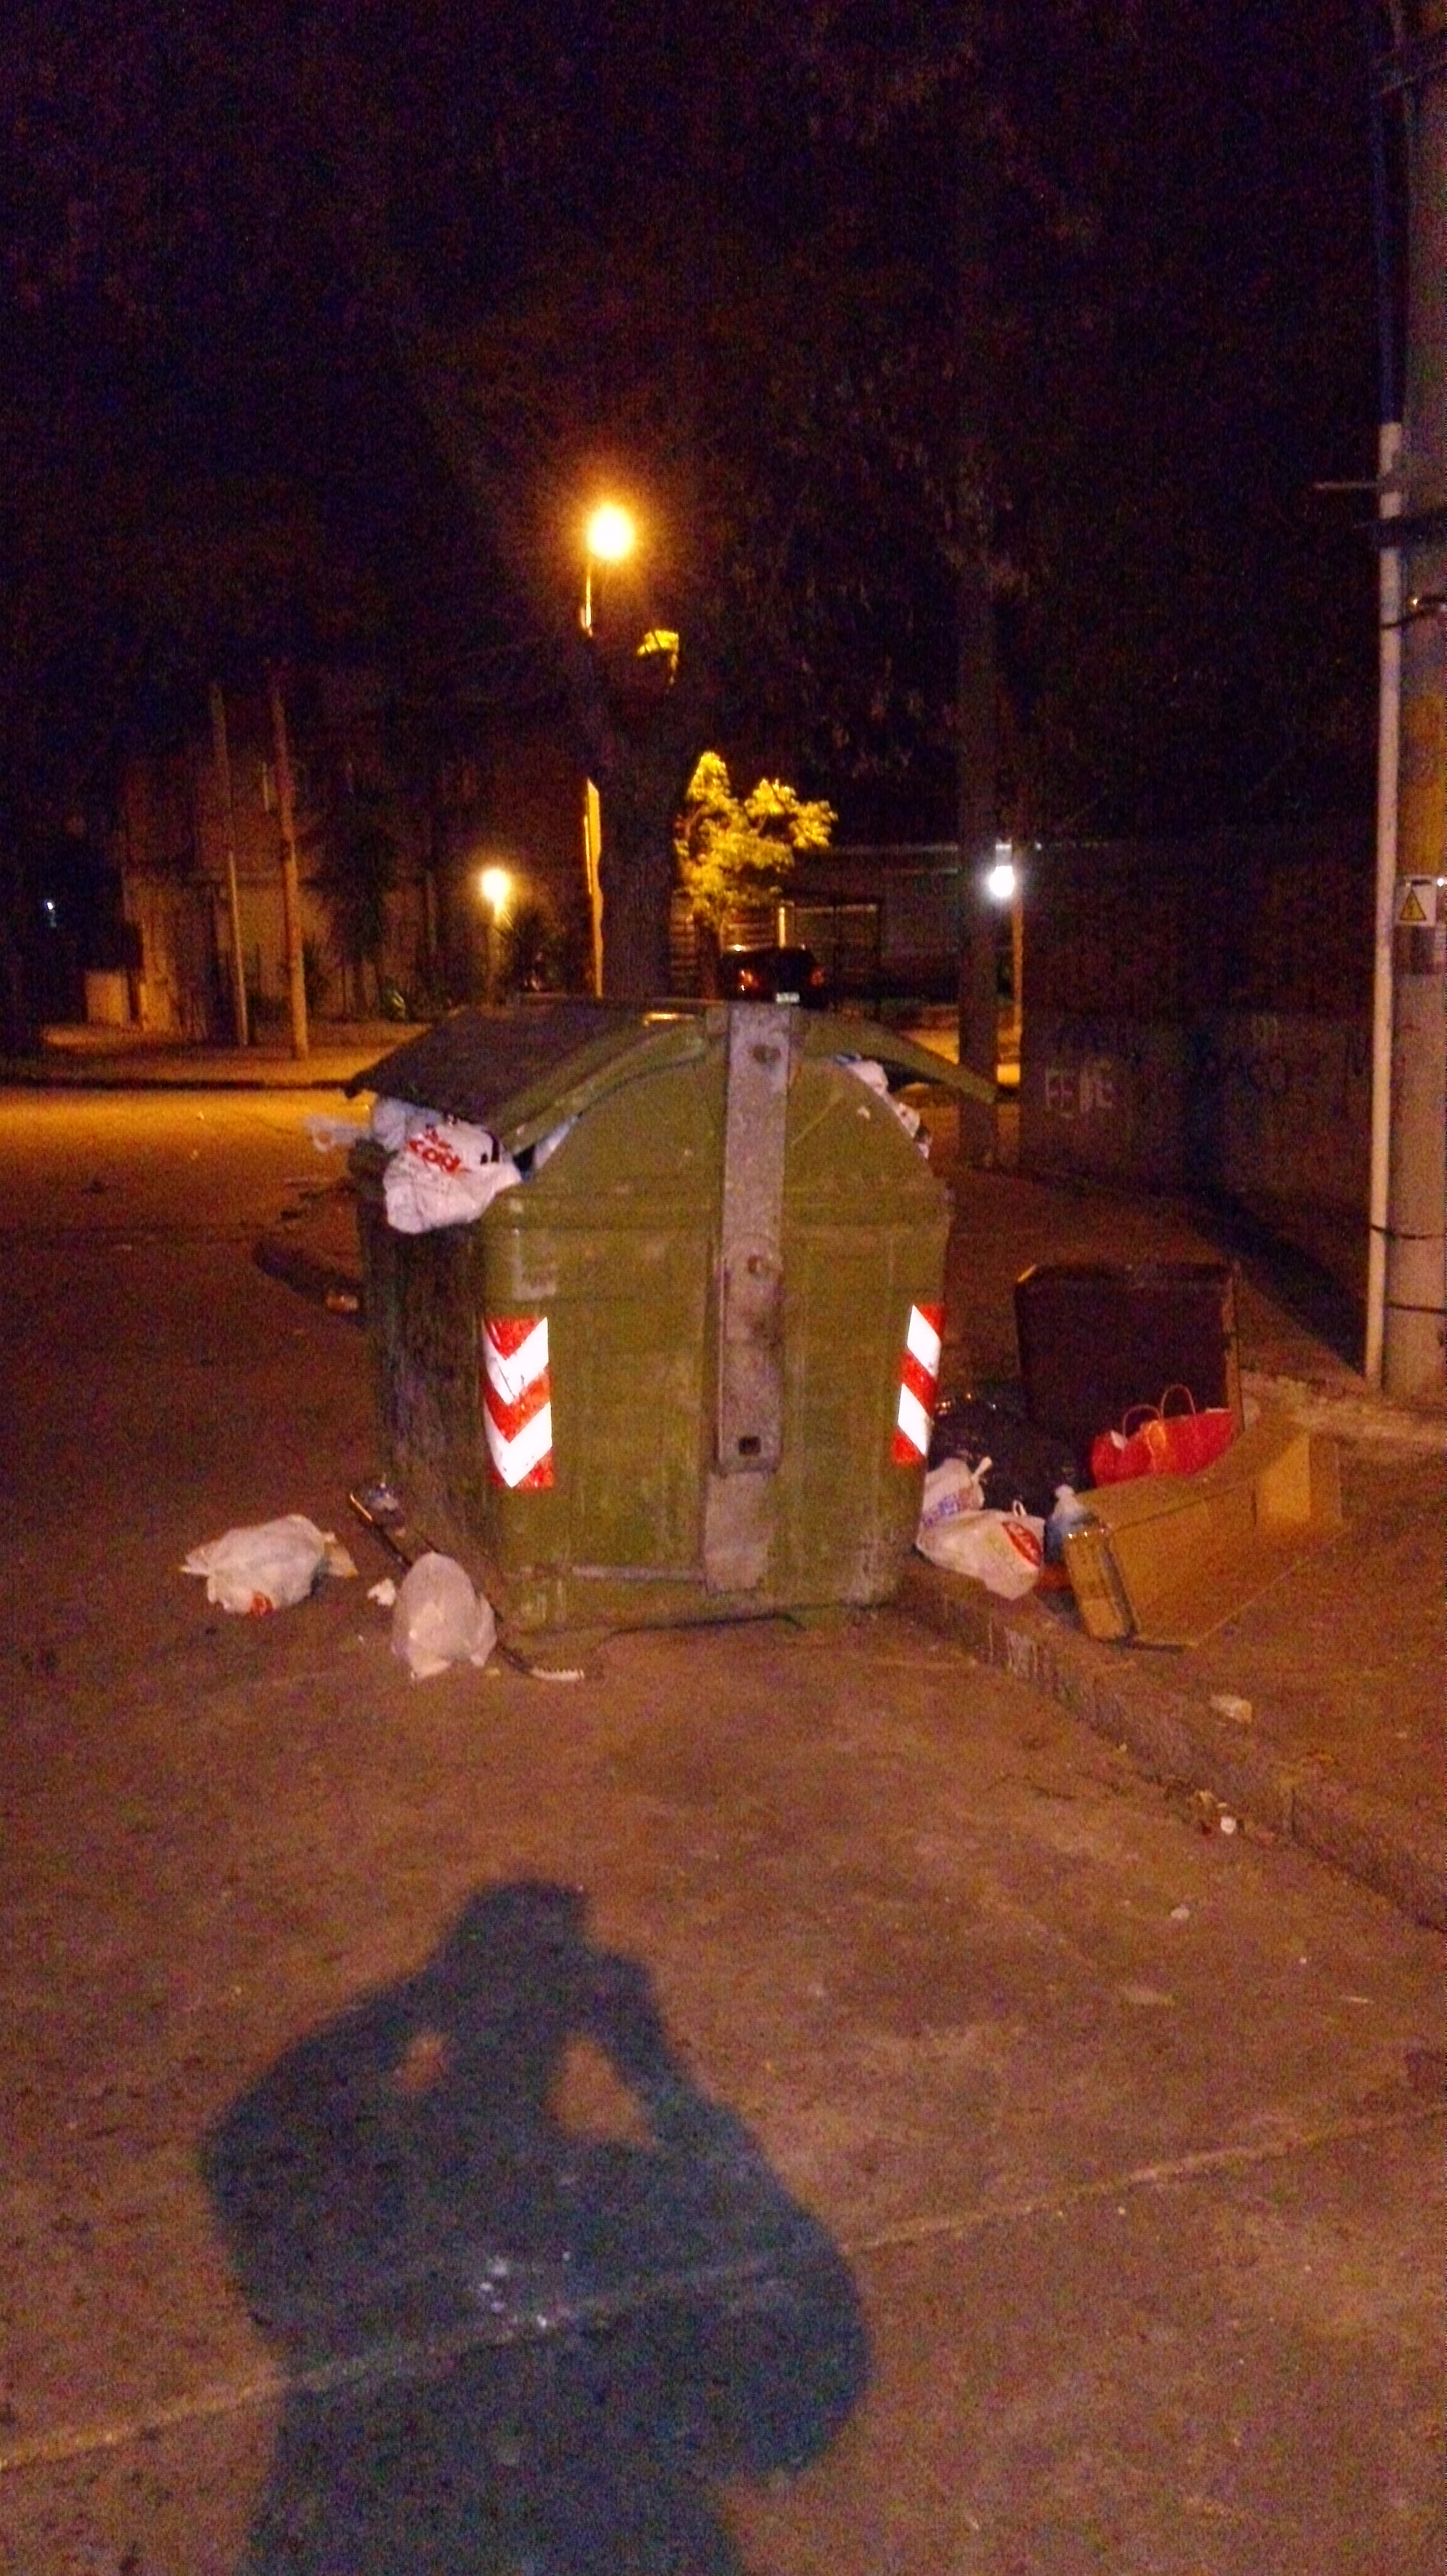container: (336, 945, 1021, 1658)
